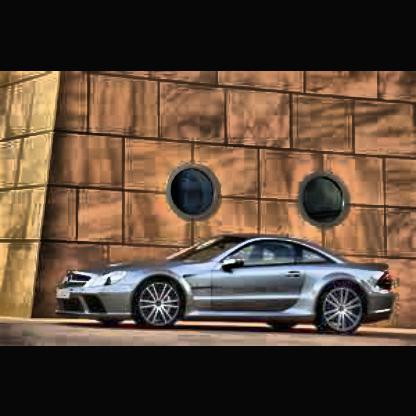Mercedes-Benz SL-Class Coupe 2009: (52, 239, 398, 337)
